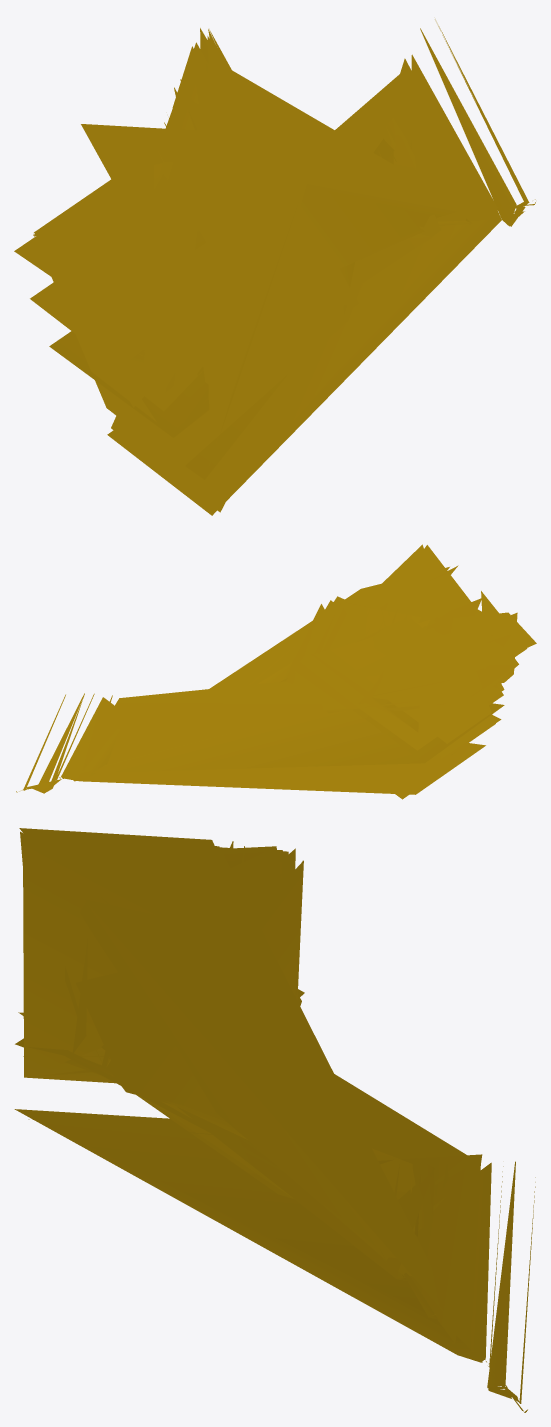
The picture shows the model from 3 angles, top to bottom: view 1: azimuth 30°, elevation 25°; view 2: azimuth 150°, elevation 25°; view 3: azimuth 270°, elevation 25°; orthographic projection. The views are drawn at different scales.
Visible parts, largest first — view 1: GoldCoinBlank; view 2: GoldCoinBlank; view 3: GoldCoinBlank.
Part boxes in pixels (x1,y1,x2,y2): GoldCoinBlank: [14, 19, 535, 515]; GoldCoinBlank: [16, 544, 536, 799]; GoldCoinBlank: [14, 828, 535, 1412].
Bounding box in the file's own units: 3.12e-44 × 1.63e-44 × 2.16e-44.
